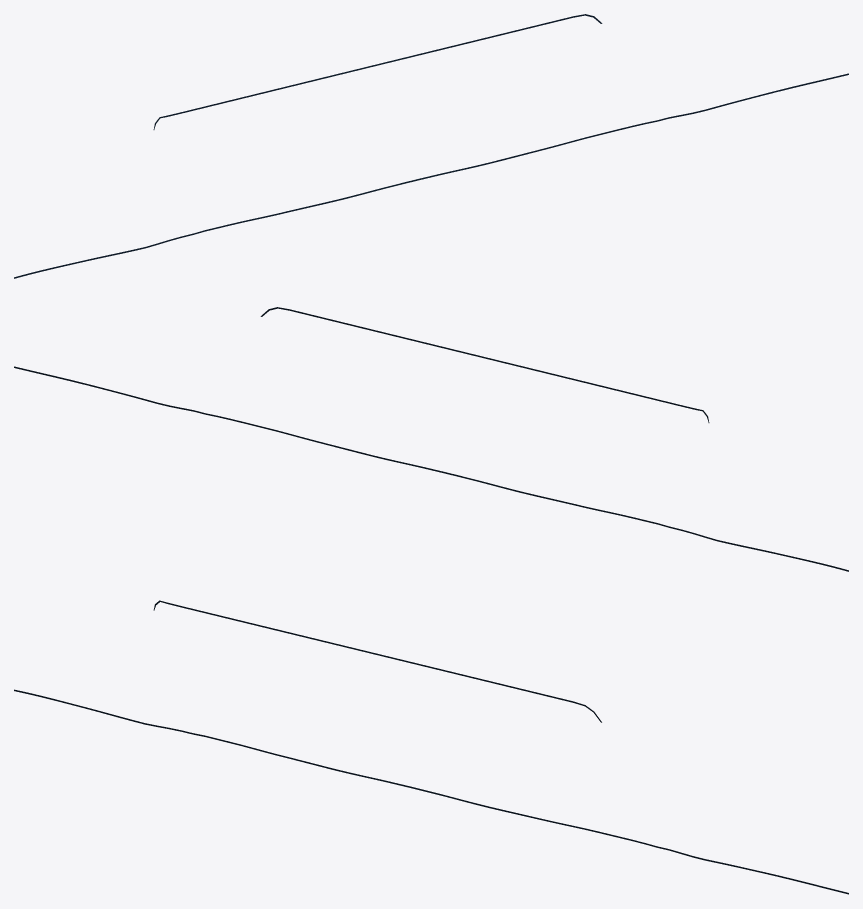
The model's file is Level_02_WalkLine.fbx.
3 renders of one model, top to bottom at view 1: azimuth 30°, elevation 25°; view 2: azimuth 150°, elevation 25°; view 3: azimuth 330°, elevation 25°, orthographic.
Visible parts, largest first — view 1: Level_02_WalkLine; view 2: Level_02_WalkLine; view 3: Level_02_WalkLine.
Part boxes in pixels (x1,y1,x2,y2): Level_02_WalkLine: (14,14,848,278); Level_02_WalkLine: (14,307,848,571); Level_02_WalkLine: (14,600,848,894).
Bounding box in the file's own units: 44.96 × 6.58 × 0.
